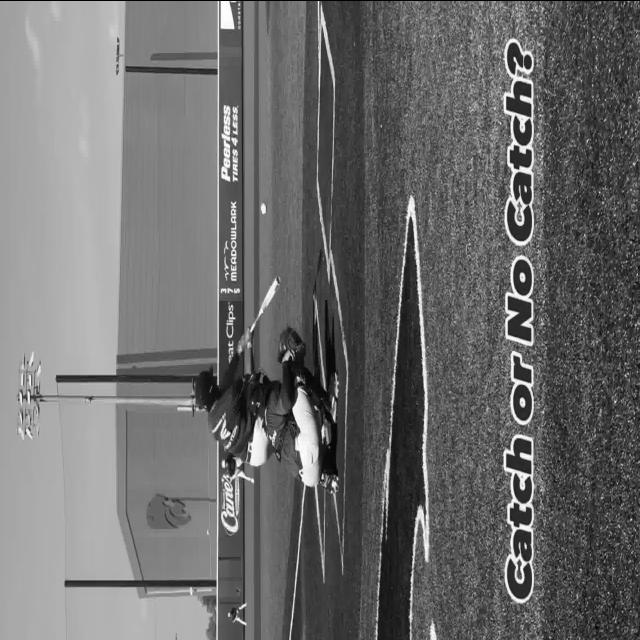baseball: (260, 200, 266, 213)
bat: (250, 275, 280, 333)
shoe: (320, 464, 339, 493), (329, 371, 339, 422)
